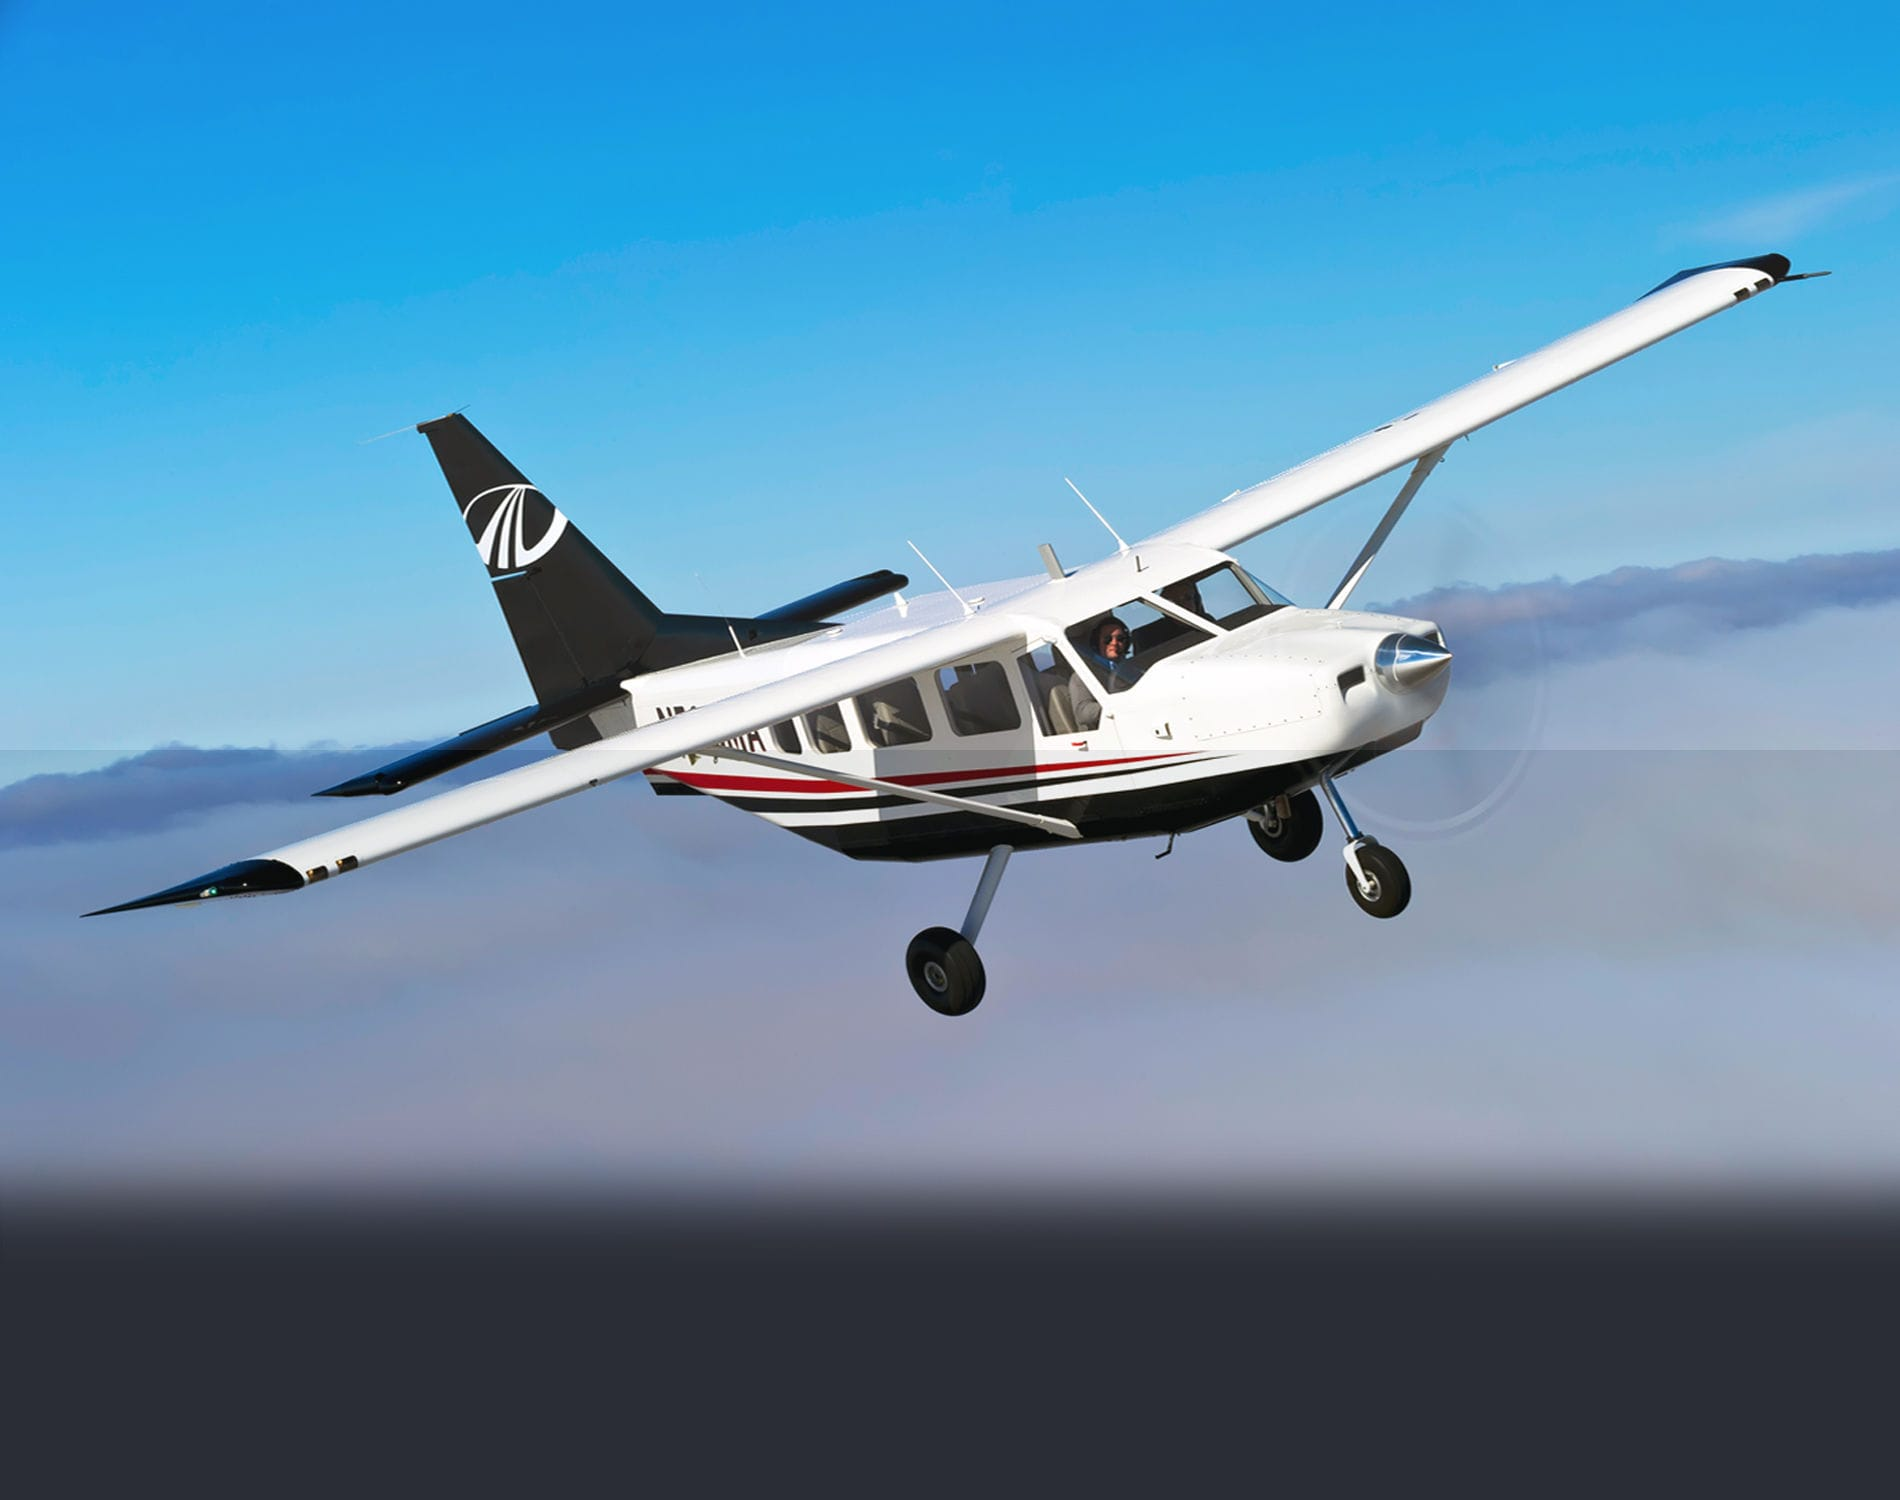Aeronef_de_loisir: (89, 220, 1854, 1159)
